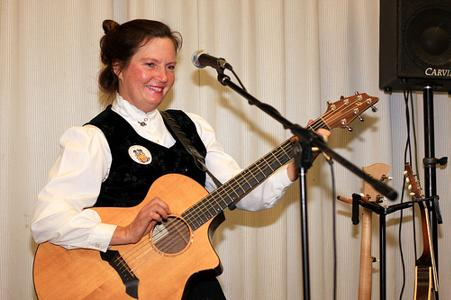person: (31, 19, 331, 300)
